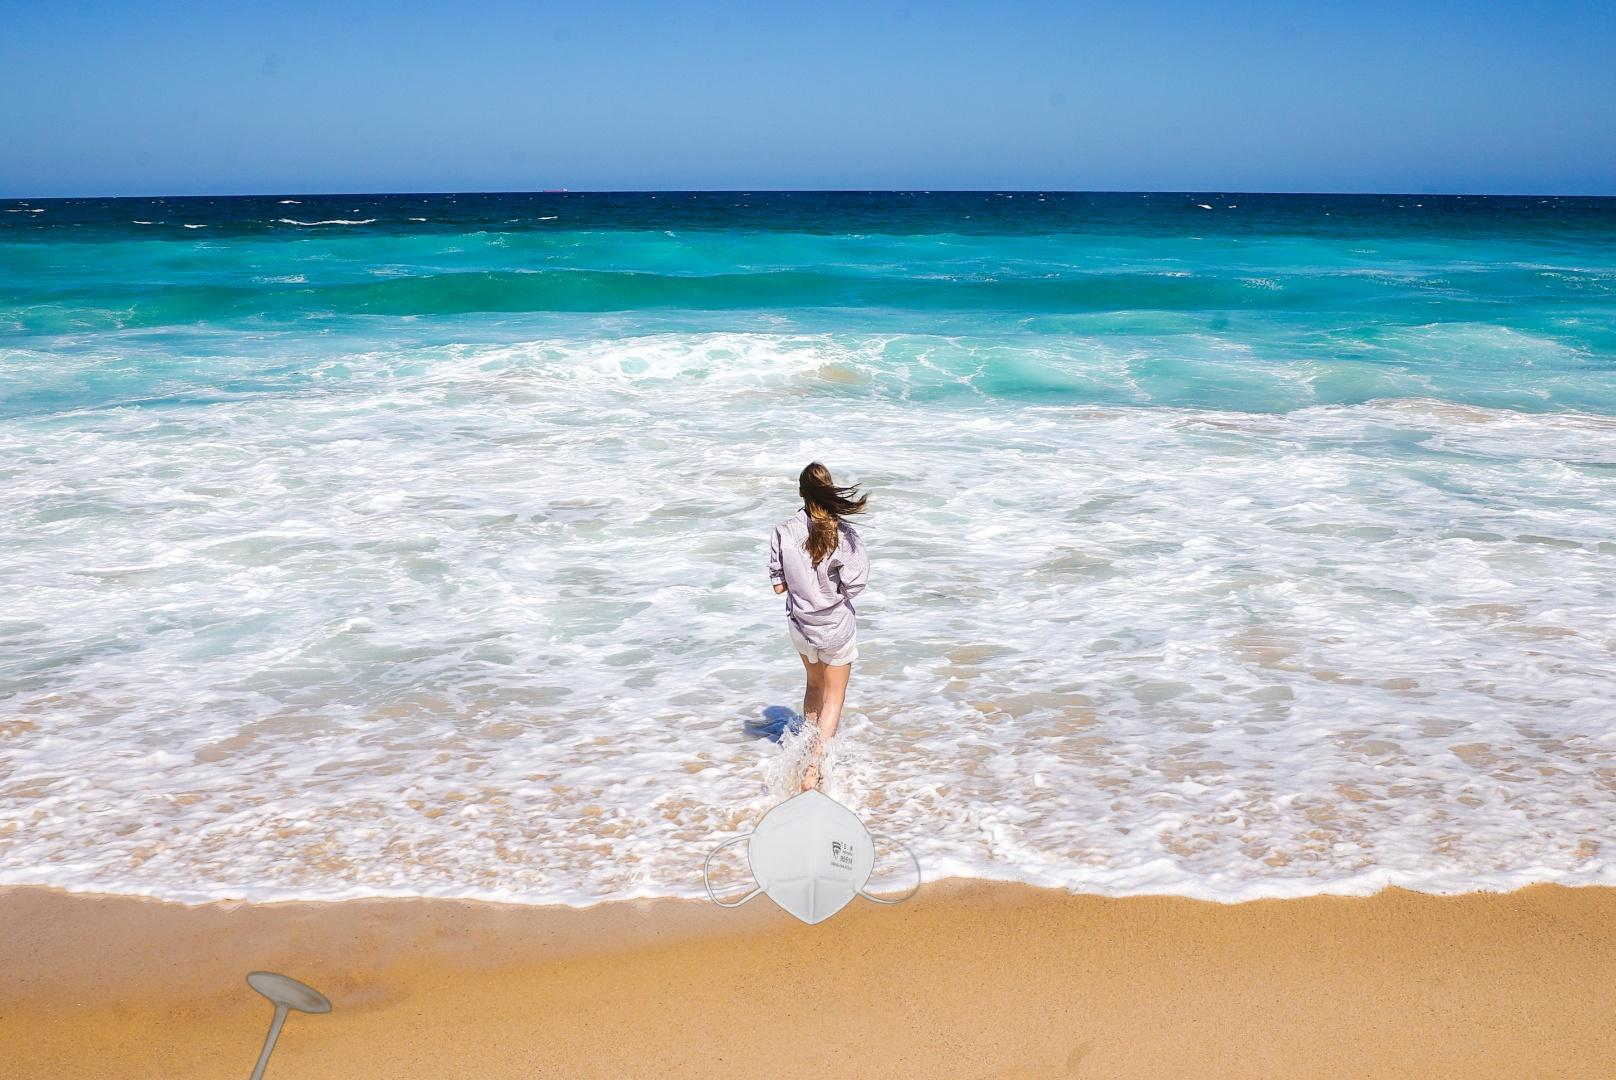glass: (131, 969, 336, 1080)
trash: (701, 785, 923, 928)
